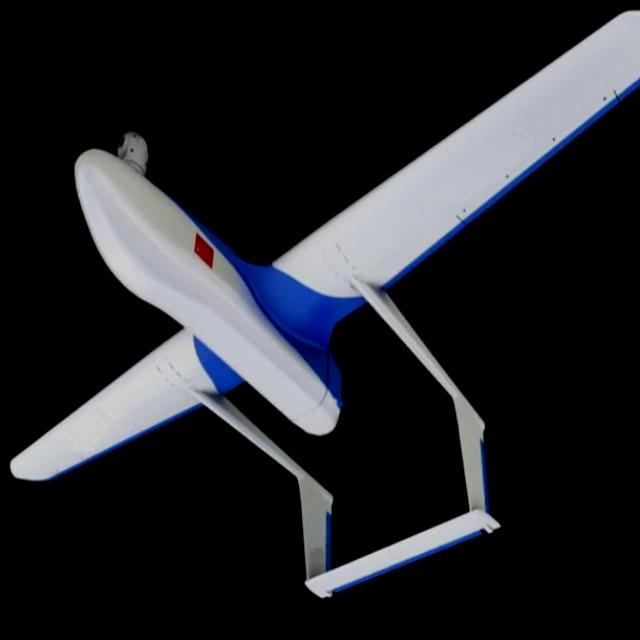plane: (8, 9, 640, 602)
